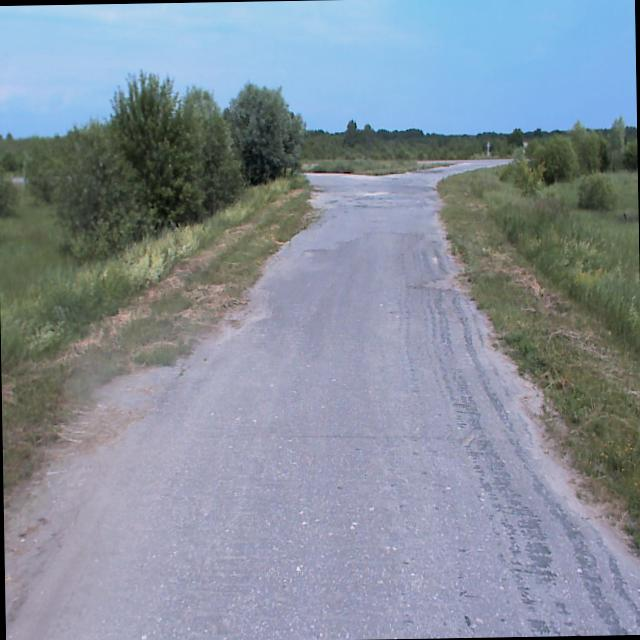road: (59, 158, 640, 640)
